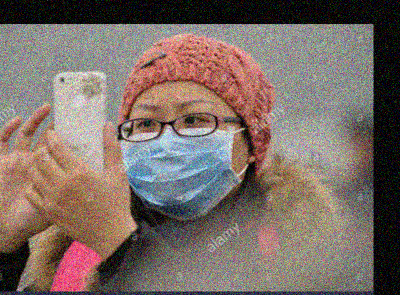with_mask: (116, 96, 244, 223)
